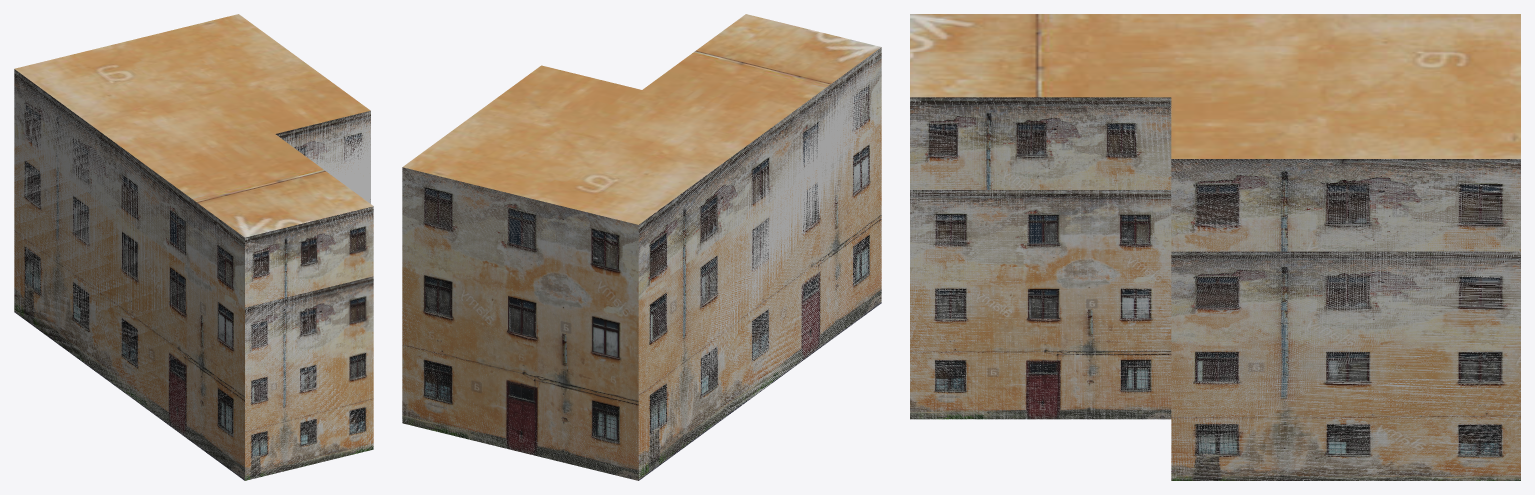
File: building9.fbx
3 views of the same model, side by side, from view 1: azimuth 30°, elevation 25°; view 2: azimuth 150°, elevation 25°; view 3: azimuth 270°, elevation 25° (orthographic). The views are drawn at different scales.
Visible parts, largest first — view 1: Cube.007, Cube.016; view 2: Cube.007, Cube.016; view 3: Cube.007, Cube.016.
Part boxes in pixels (left/top/right/bottom): Cube.007: left=14, top=14, right=373, bottom=480; Cube.016: left=14, top=70, right=373, bottom=479; Cube.007: left=402, top=14, right=881, bottom=480; Cube.016: left=402, top=48, right=881, bottom=480; Cube.007: left=910, top=14, right=1520, bottom=480; Cube.016: left=910, top=97, right=1520, bottom=480.
Bounding box in the file's own units: 1885 × 1951 × 3355.
